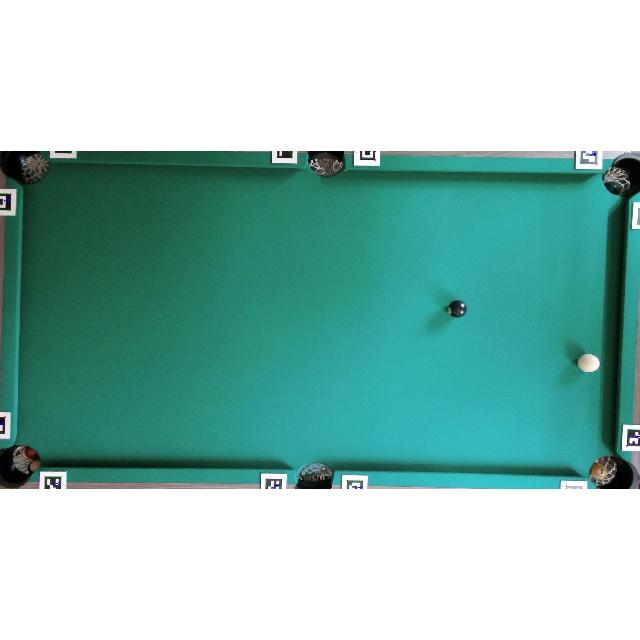cue ball: (576, 352, 602, 374)
other: (446, 300, 466, 318)
